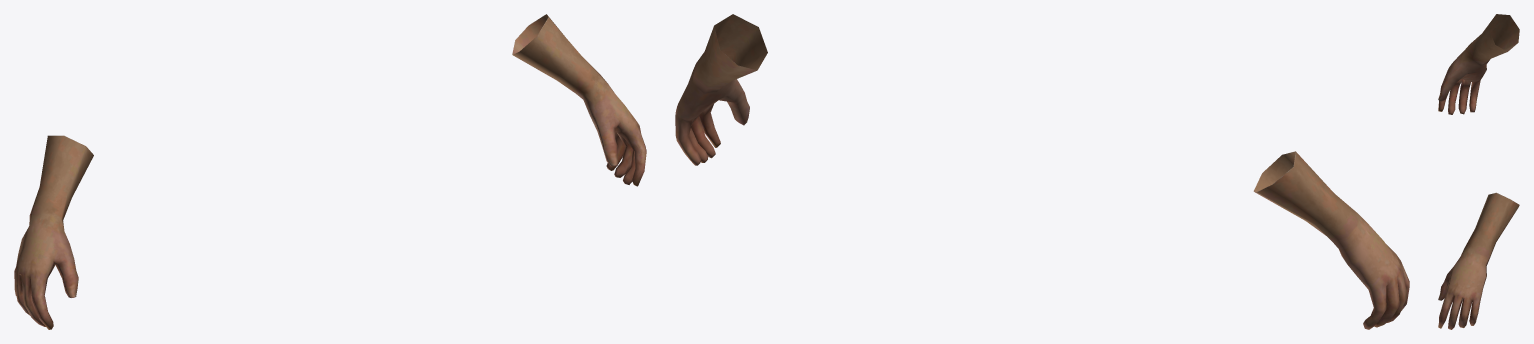
Rendered from nan_shoubu.FBX.
3 renders of one model, left to right at view 1: azimuth 30°, elevation 25°; view 2: azimuth 150°, elevation 25°; view 3: azimuth 270°, elevation 25°, orthographic. The views are drawn at different scales.
Parts seen in each view (by area): view 1: shoubu; view 2: shoubu; view 3: shoubu.
Boxes of the visible parts, x1,y1,x2,y2 form: shoubu: (14, 14, 646, 329); shoubu: (675, 14, 1409, 329); shoubu: (1438, 14, 1519, 329).
Bounding box in the file's own units: 114 × 27.63 × 17.16.
